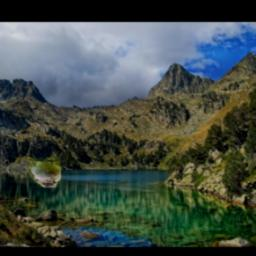Sparrow: (27, 157, 61, 187)
